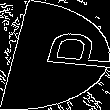P_W: (6, 33, 104, 77)
